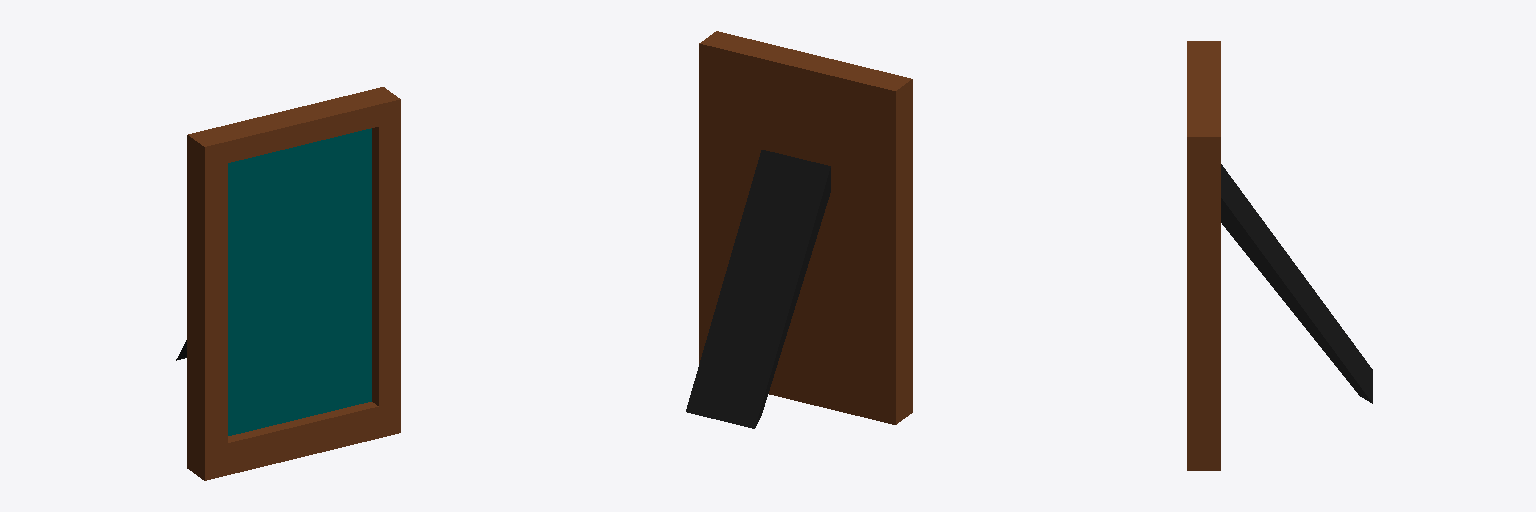
Rendered from Portaretrato.obj.
3 views of the same model, side by side, from view 1: azimuth 30°, elevation 25°; view 2: azimuth 150°, elevation 25°; view 3: azimuth 270°, elevation 25° (orthographic).
Parts seen in each view (by area): view 1: Mesh1 Model; view 2: Mesh1 Model; view 3: Mesh1 Model.
Boxes of the visible parts, x1,y1,x2,y2 form: Mesh1 Model: [176, 87, 400, 480]; Mesh1 Model: [686, 31, 912, 428]; Mesh1 Model: [1187, 41, 1372, 470].
Bounding box in the file's own units: 0.99 × 1.61 × 0.8156.